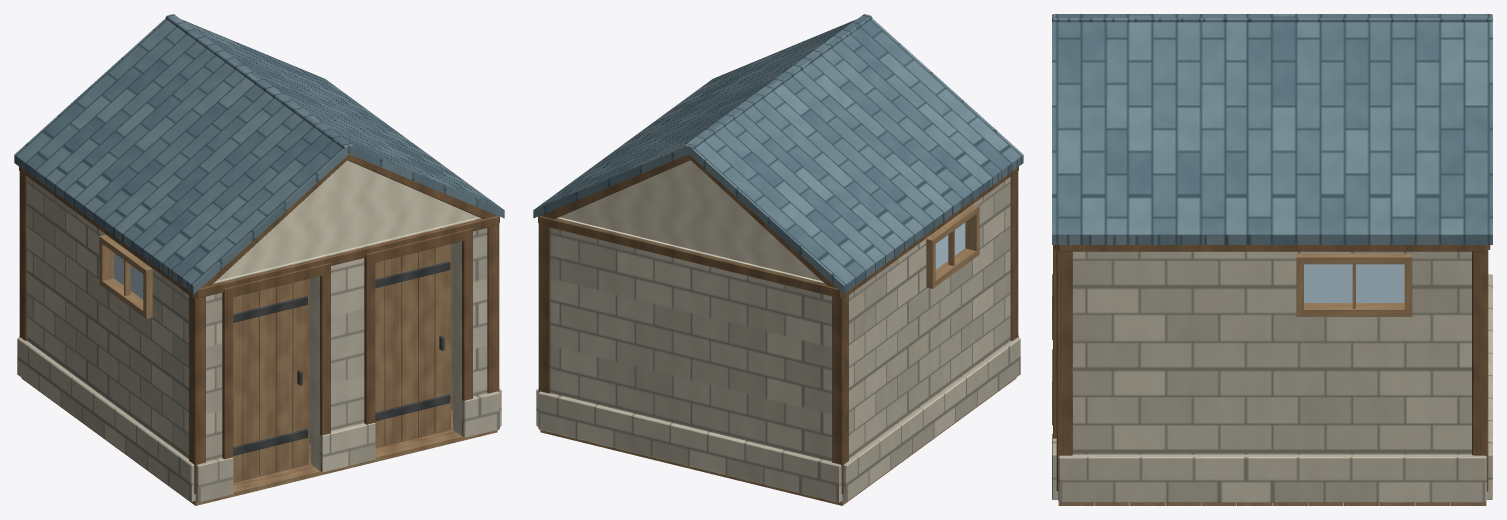
File: Furn_Pool_Hut.fbx
3 views of the same model, side by side, from view 1: azimuth 30°, elevation 25°; view 2: azimuth 150°, elevation 25°; view 3: azimuth 270°, elevation 25° (orthographic). The views are drawn at different scales.
Parts seen in each view (by area): view 1: Body, Roof, Door_Leaf_1, Door_Leaf_2, Window_Frame, Window_Glass; view 2: Body, Roof, Window_Frame, Window_Glass; view 3: Body, Roof, Window_Glass, Window_Frame.
Part boxes in pixels (x1,y1,x2,y2): Body: (17,166,501,505); Roof: (14,14,504,294); Door_Leaf_1: (233,279,309,482); Door_Leaf_2: (375,244,451,448); Window_Frame: (99,234,152,318); Window_Glass: (114,253,143,299); Body: (536,166,1020,505); Roof: (533,14,1023,294); Window_Frame: (926,204,979,288); Window_Glass: (935,222,965,269); Body: (1052,245,1492,505); Roof: (1052,14,1492,244); Window_Glass: (1304,264,1404,302); Window_Frame: (1296,254,1412,316).
Size of the model in its own units: 3.54 by 3.5 by 3.5.
2 materials, 1 textured.
